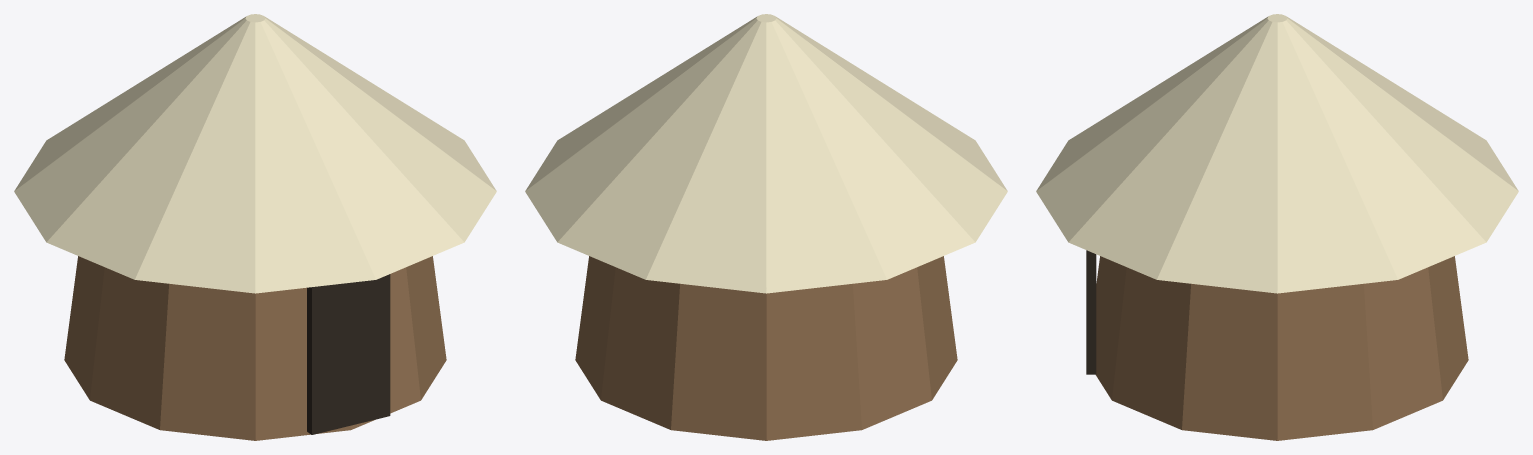
The model's file is CC_Hut.fbx.
The picture shows the model from 3 angles, left to right: view 1: azimuth 30°, elevation 25°; view 2: azimuth 150°, elevation 25°; view 3: azimuth 270°, elevation 25°; orthographic projection.
Visible parts, largest first — view 1: Thatch roof, Hut wall, Hut door; view 2: Thatch roof, Hut wall; view 3: Thatch roof, Hut wall, Hut door.
Part boxes in pixels (left/top/right/bottom): Thatch roof: left=14, top=14, right=496, bottom=293; Hut wall: left=64, top=256, right=446, bottom=440; Hut door: left=307, top=274, right=390, bottom=434; Thatch roof: left=525, top=14, right=1007, bottom=293; Hut wall: left=575, top=256, right=957, bottom=440; Thatch roof: left=1036, top=14, right=1518, bottom=293; Hut wall: left=1096, top=256, right=1468, bottom=440; Hut door: left=1086, top=250, right=1096, bottom=374.
Size of the model in its own units: 4.8 by 3.75 by 4.8.
